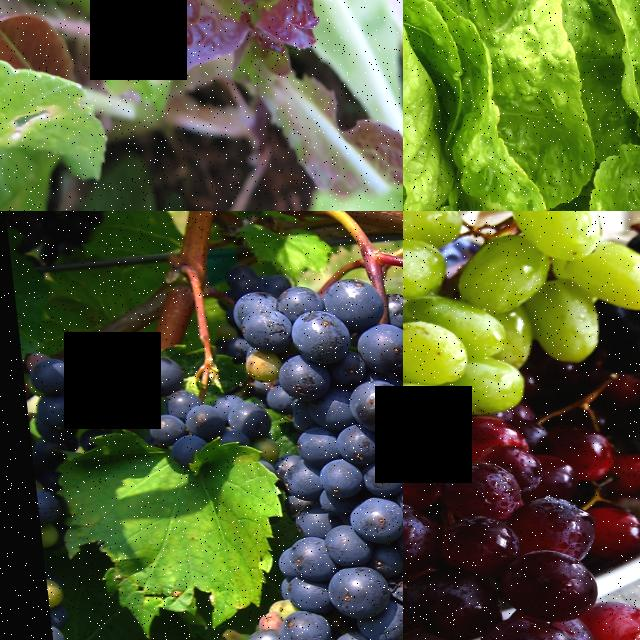grapes: (403, 211, 640, 457), (403, 430, 640, 640), (232, 278, 403, 513), (242, 476, 403, 640)
lettuce: (403, 0, 562, 211), (534, 0, 640, 211)
